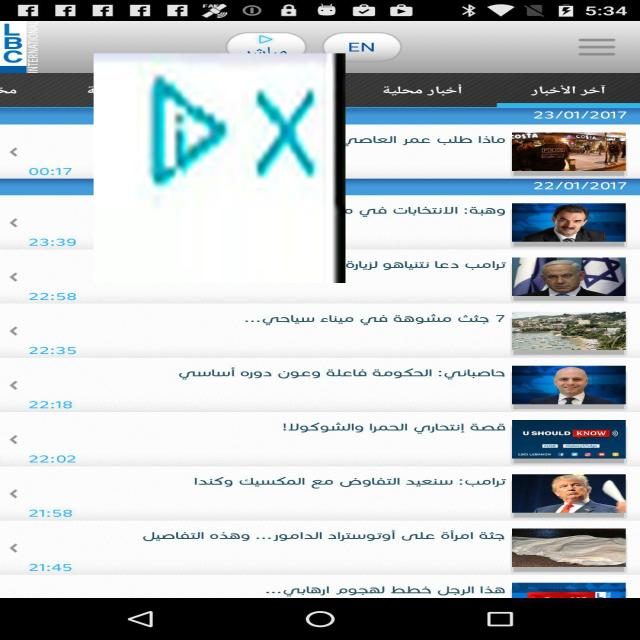sneaking: (94, 53, 346, 283)
